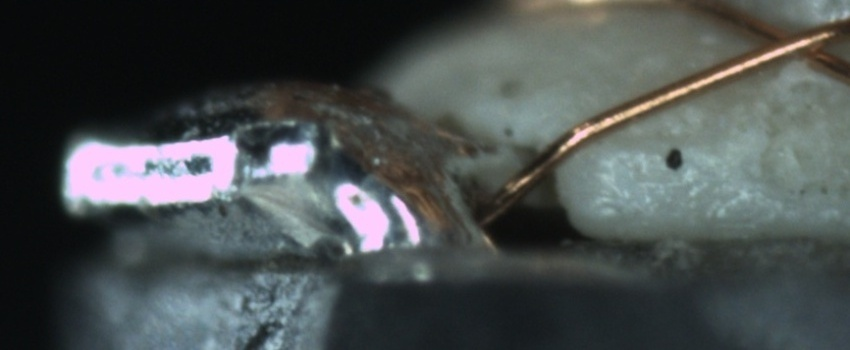CL: (735, 9, 846, 76)
DL: (605, 118, 719, 166)
